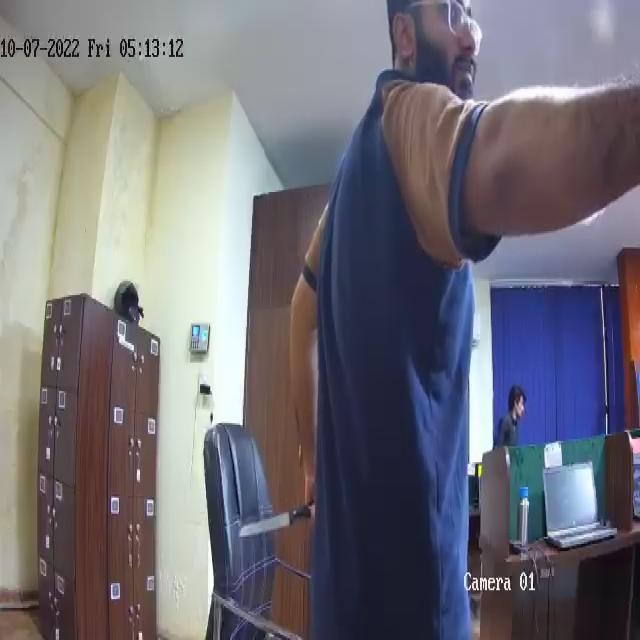Knife: (238, 489, 315, 546)
